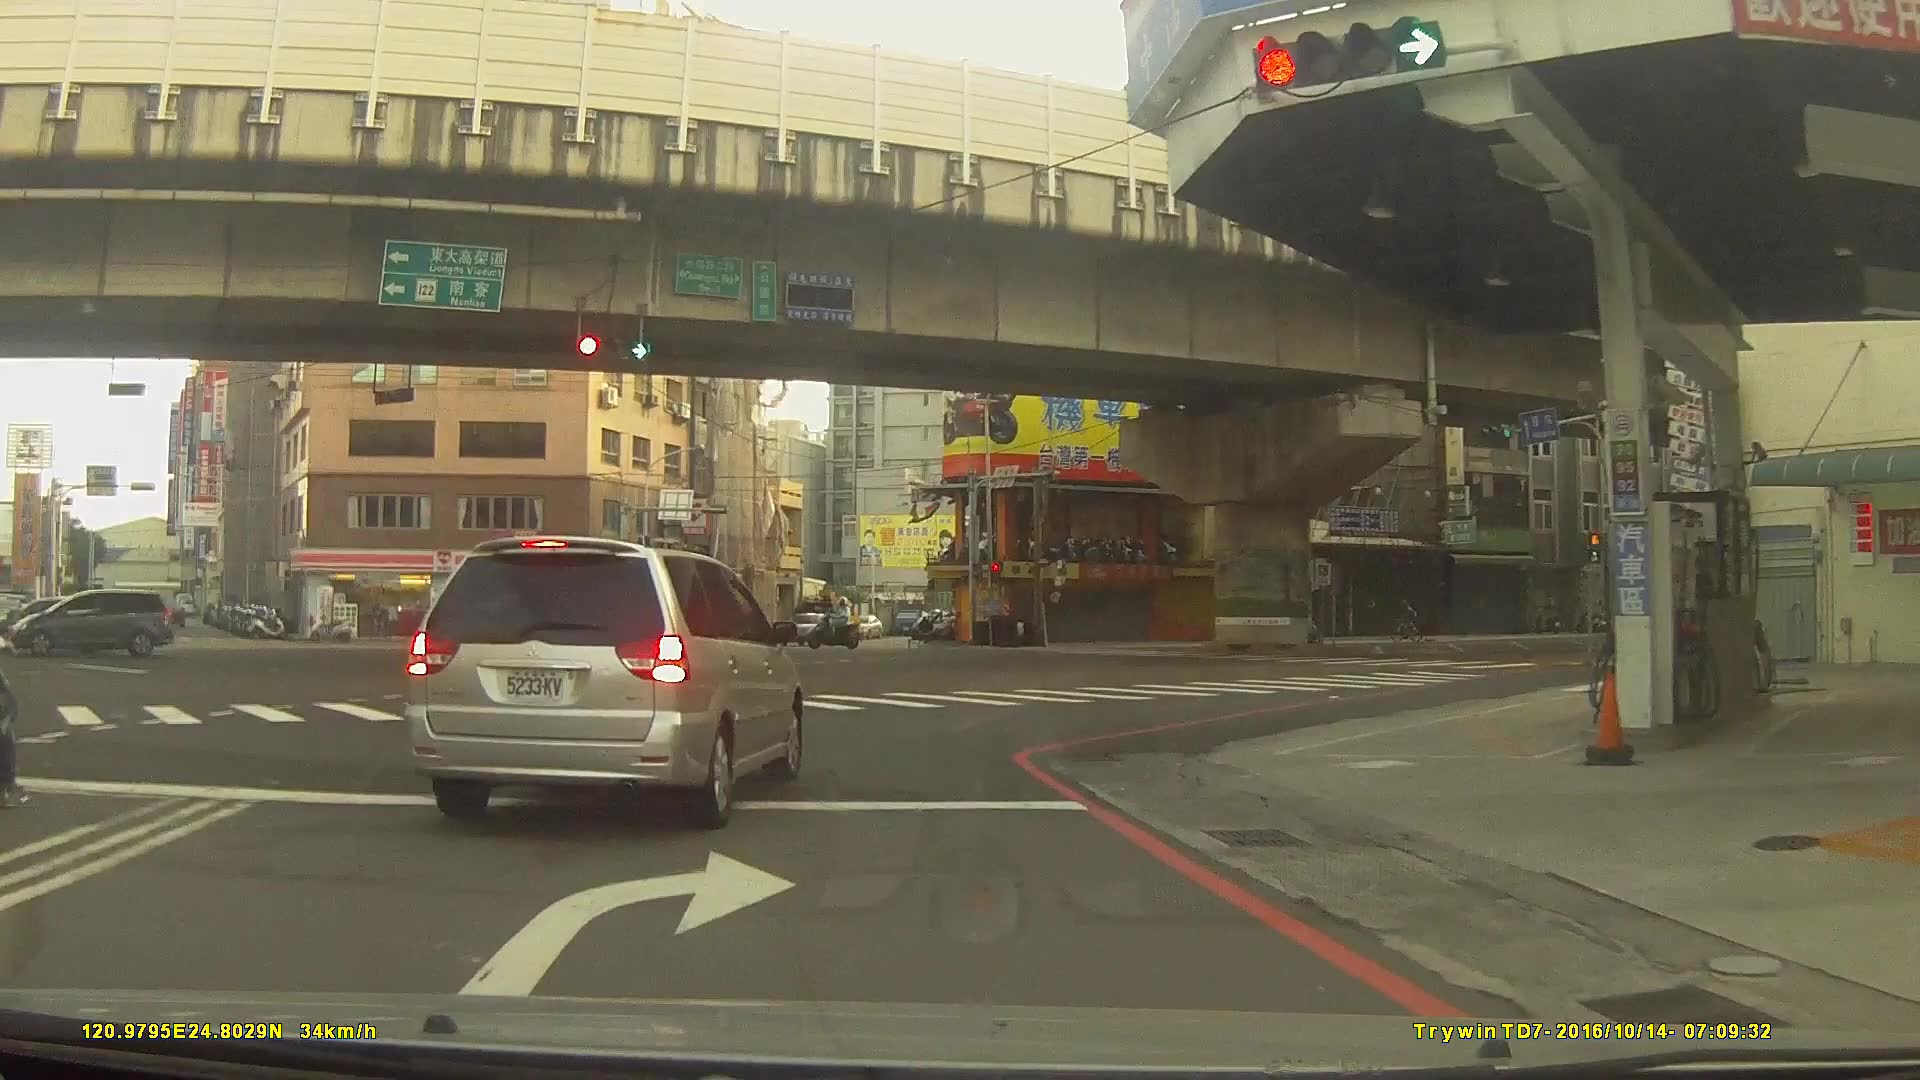rider: (807, 598, 860, 647)
vehicle: (407, 533, 804, 828), (12, 587, 171, 655), (783, 610, 843, 645), (543, 606, 605, 633)
